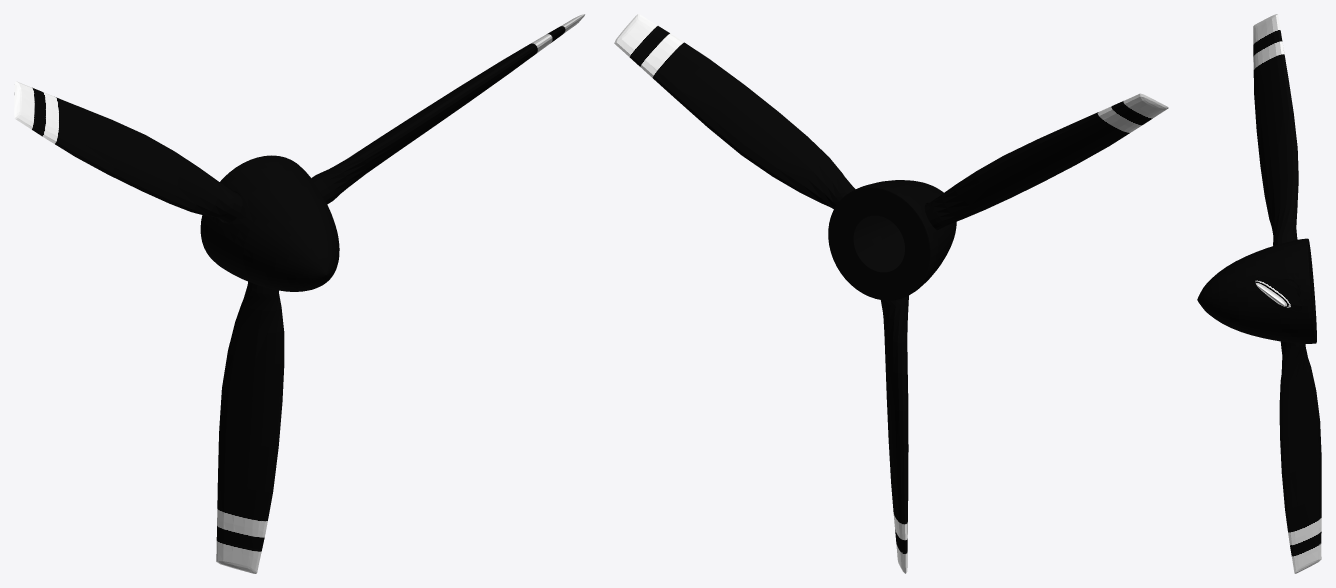
The model's file is screw2.obj.
3 renders of one model, left to right at view 1: azimuth 30°, elevation 25°; view 2: azimuth 150°, elevation 25°; view 3: azimuth 270°, elevation 25°, orthographic. The views are drawn at different scales.
Parts seen in each view (by area): view 1: Cessna172; view 2: Cessna172; view 3: Cessna172.
Part boxes in pixels (bbox=[...]): Cessna172: bbox=[14, 14, 585, 573]; Cessna172: bbox=[614, 14, 1168, 573]; Cessna172: bbox=[1197, 14, 1321, 573].
Size of the model in its own units: 5.6 by 5.17 by 1.27.
Materials: 2 (1 with a texture image).
